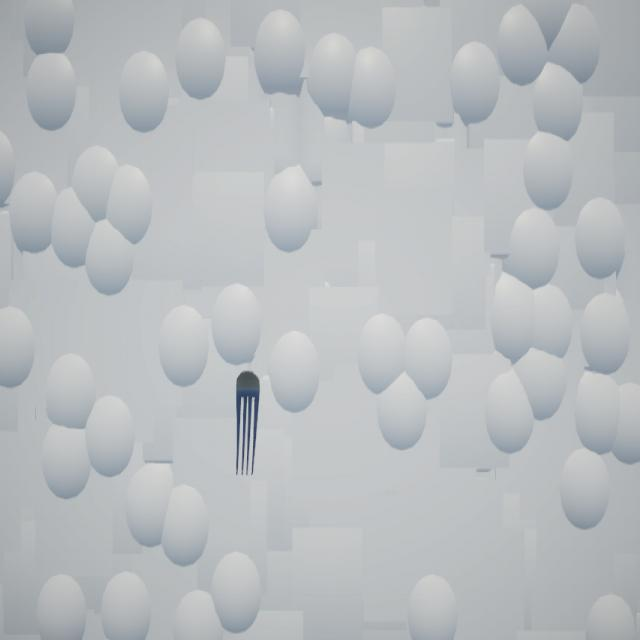top_folk: (237, 371, 261, 477)
